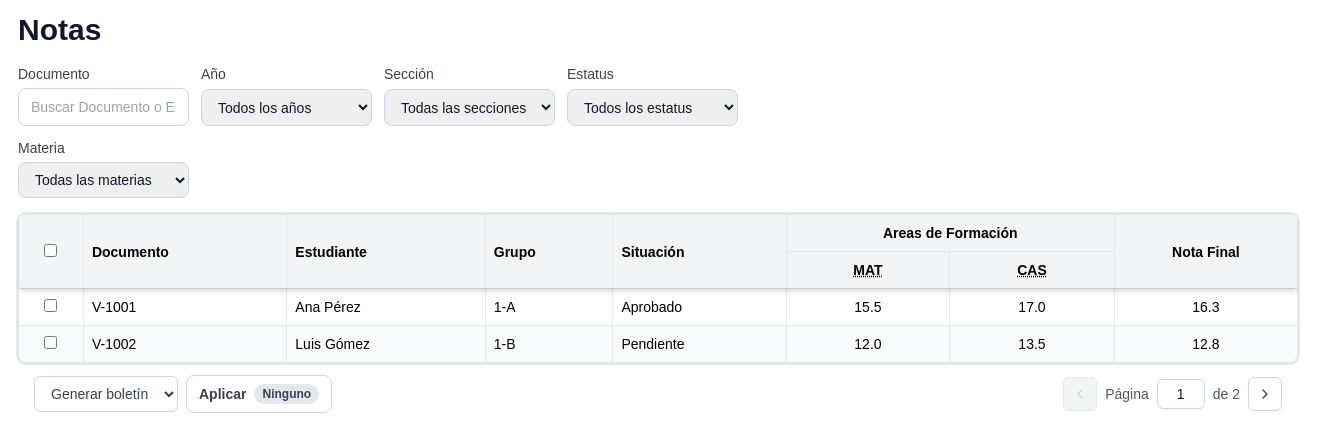
Test: Grades page › selects and deselects records
Expected: the checkbox named "Seleccionar todos" is shown, [44,244,58,256]
Expected: the dropdown named "Acciones masivas" is shown, [34,376,178,412]
Click the checkbox named "Seleccionar Ana Pérez" at (51, 306), box [44,299,58,312]
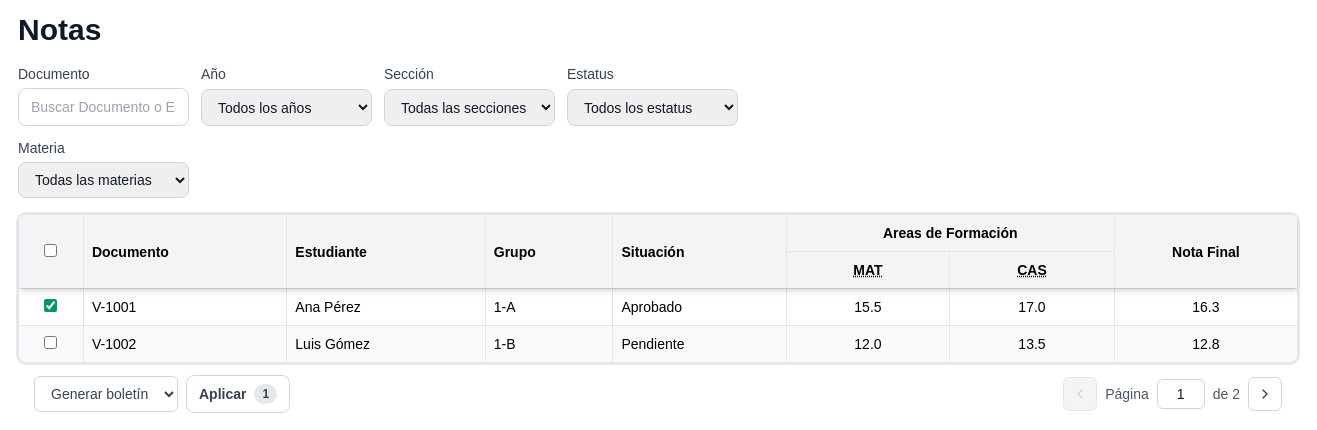
Click the checkbox named "Seleccionar Luis Gómez" at (51, 342), box [44,336,58,349]
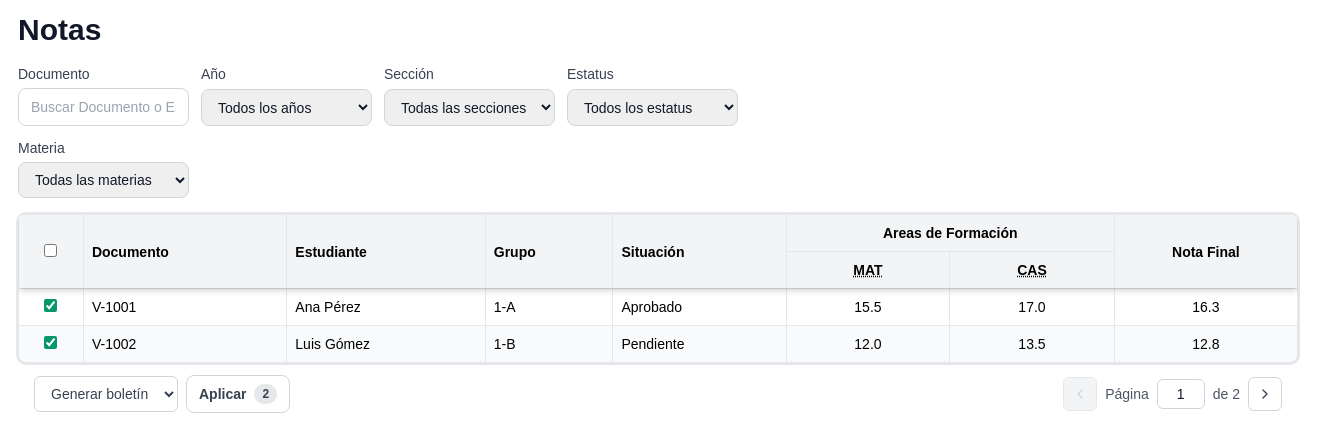
Expected: the text "2" is shown, [254,384,277,404]
Expected: the checkbox named "Seleccionar Ana Pérez" is checked, [44,299,58,312]
Expected: the checkbox named "Seleccionar Luis Gómez" is checked, [44,336,58,349]
Click the checkbox named "Seleccionar todos" at (51, 250), box [44,244,58,256]
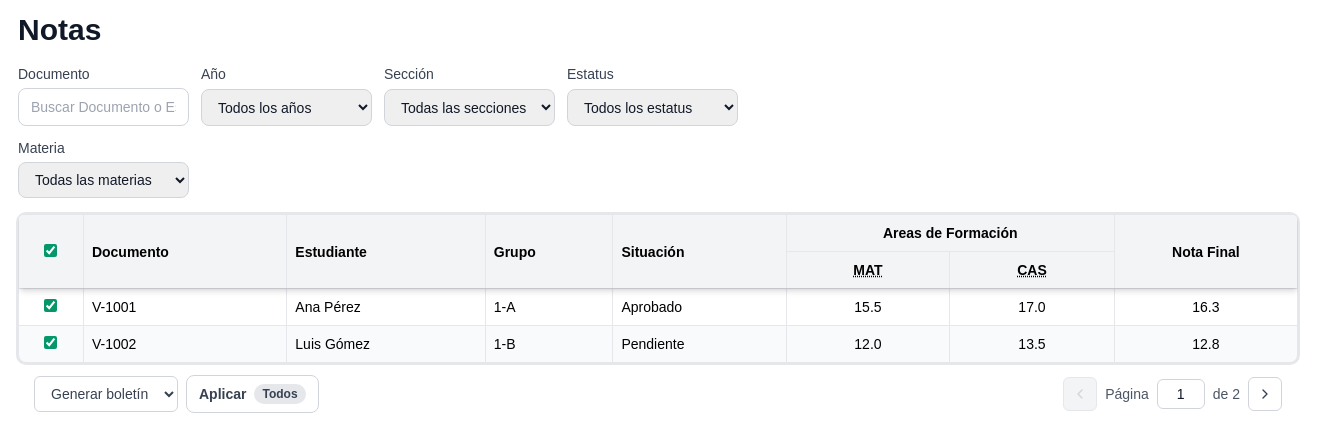
Expected: the text "Todos" is shown, [254,384,306,404]
Click the checkbox named "Seleccionar todos" at (51, 250), box [44,244,58,256]
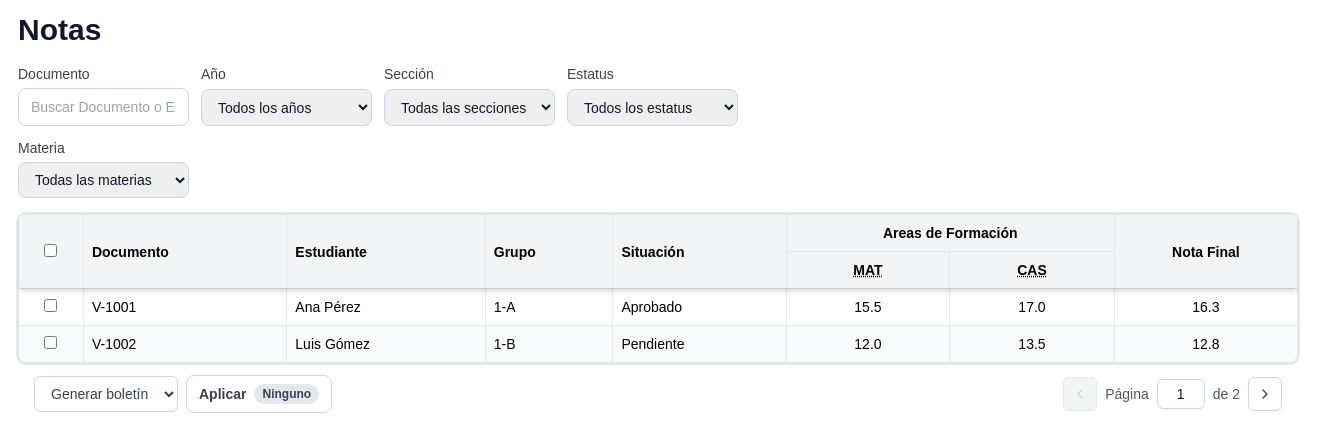
Expected: the text "Ninguno" is shown, [254,384,319,404]
